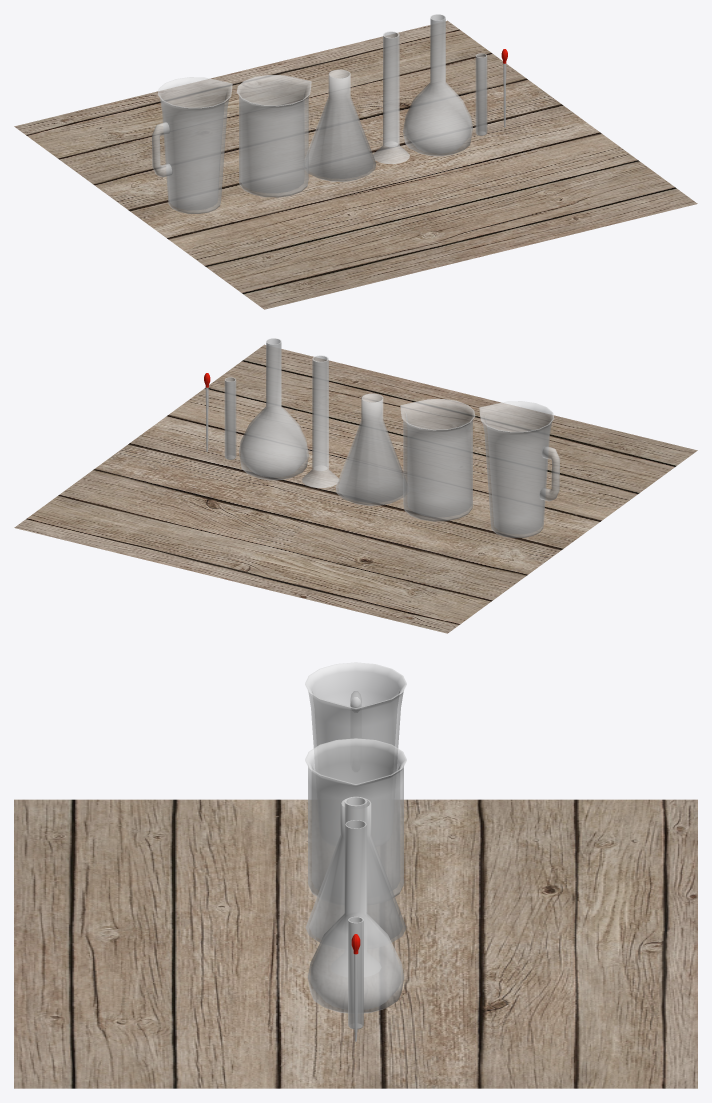
The model's file is lab_glassware.glb.
The picture shows the model from 3 angles, top to bottom: view 1: azimuth 30°, elevation 25°; view 2: azimuth 150°, elevation 25°; view 3: azimuth 270°, elevation 25°; orthographic projection. The views are drawn at different scales.
Visible parts, largest first — view 1: Plane_1, Gelas Ukur_8, Beaker_0, Volumetric Flask_5, Erenmayer_3, Graduated Cylinder_4, Tube_6; view 2: Plane_1, Gelas Ukur_8, Beaker_0, Volumetric Flask_5, Erenmayer_3, Graduated Cylinder_4, Tube_6; view 3: Plane_1, Beaker_0, Gelas Ukur_8, Volumetric Flask_5, Erenmayer_3, Tube_6, Graduated Cylinder_4.
Boxes of the visible parts, x1,y1,x2,y2 form: Plane_1: [14, 20, 697, 309]; Gelas Ukur_8: [152, 77, 232, 213]; Beaker_0: [237, 75, 311, 197]; Volumetric Flask_5: [403, 14, 472, 156]; Erenmayer_3: [305, 69, 376, 181]; Graduated Cylinder_4: [373, 31, 409, 163]; Tube_6: [475, 53, 487, 135]; Plane_1: [14, 344, 697, 633]; Gelas Ukur_8: [479, 401, 559, 537]; Beaker_0: [400, 399, 474, 521]; Volumetric Flask_5: [239, 338, 308, 480]; Erenmayer_3: [335, 393, 406, 505]; Graduated Cylinder_4: [302, 355, 338, 487]; Tube_6: [224, 377, 236, 459]; Plane_1: [14, 799, 697, 1088]; Beaker_0: [305, 738, 406, 897]; Gelas Ukur_8: [305, 662, 406, 783]; Volumetric Flask_5: [307, 820, 404, 1013]; Erenmayer_3: [305, 797, 406, 942]; Tube_6: [348, 916, 363, 1029]; Graduated Cylinder_4: [344, 796, 367, 915].
Bounding box in the file's own units: 5.02 × 1.42 × 5.02.
Materials: 3 (1 with a texture image).
